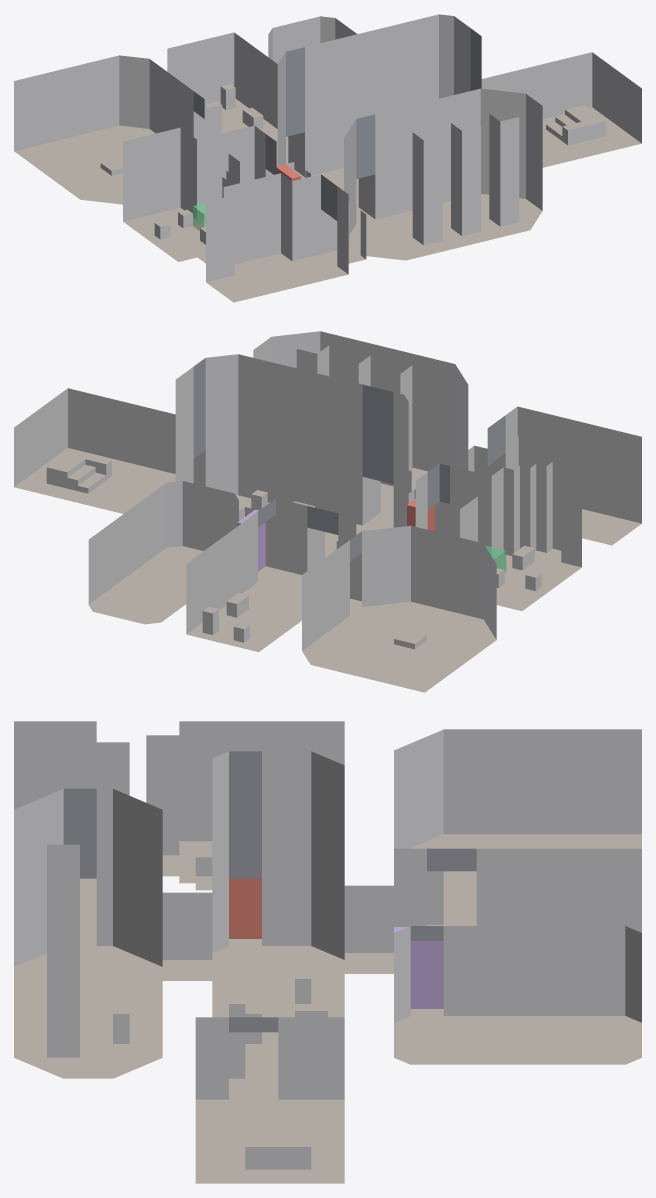
File: deck_08.glb
3 views of the same model, one above another, from view 1: azimuth 30°, elevation 25°; view 2: azimuth 150°, elevation 25°; view 3: azimuth 270°, elevation 25° (orthographic). The views are drawn at different scales.
Visible parts, largest first — view 1: room:1, room:2, room:5, room:0, room:3, room:6, room:4, room:7, corridor:0, corridor:4, corridor:1, corridor:3 (+1 smaller); view 2: room:2, room:5, room:3, room:6, room:7, room:4, room:1, room:0, corridor:1, entities, corridor:3, corridor:6 (+3 smaller); view 3: room:1, room:2, room:7, room:5, room:6, room:4, room:3, room:0, corridor:1, corridor:3, entities, corridor:5 (+1 smaller).
Part boxes in pixels (<box>): room:1: <box>344,88,542,260</box>; room:2: <box>277,14,481,207</box>; room:5: <box>14,55,204,204</box>; room:0: <box>206,173,348,302</box>; room:3: <box>123,125,276,263</box>; room:6: <box>481,52,641,167</box>; room:4: <box>167,32,288,165</box>; room:7: <box>268,16,357,63</box>; corridor:0: <box>321,202,366,265</box>; corridor:4: <box>193,104,222,139</box>; corridor:1: <box>356,174,375,223</box>; corridor:3: <box>288,132,304,177</box>; room:2: <box>175,354,408,557</box>; room:5: <box>302,525,496,692</box>; room:3: <box>415,462,581,610</box>; room:6: <box>14,388,175,513</box>; room:7: <box>88,481,238,624</box>; room:4: <box>186,498,348,652</box>; room:1: <box>253,331,468,515</box>; room:0: <box>487,406,641,545</box>; corridor:1: <box>362,470,411,529</box>; entities: <box>237,499,506,572</box>; corridor:3: <box>307,520,356,570</box>; corridor:6: <box>239,507,275,581</box>; room:1: <box>14,788,162,1078</box>; room:2: <box>212,751,344,1078</box>; room:7: <box>394,926,641,1064</box>; room:5: <box>394,729,641,924</box>; room:6: <box>195,1017,344,1183</box>; room:4: <box>394,848,641,932</box>; room:3: <box>146,721,344,890</box>; room:0: <box>14,721,129,924</box>; corridor:1: <box>162,892,212,980</box>; corridor:3: <box>344,885,393,973</box>; entities: <box>229,878,443,1008</box>; corridor:5: <box>229,1011,278,1099</box>.
Size of the model in its own units: 50 by 13 by 38.
